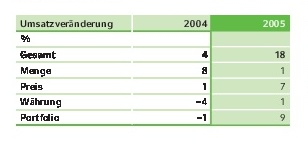table: (0, 0, 308, 144)
